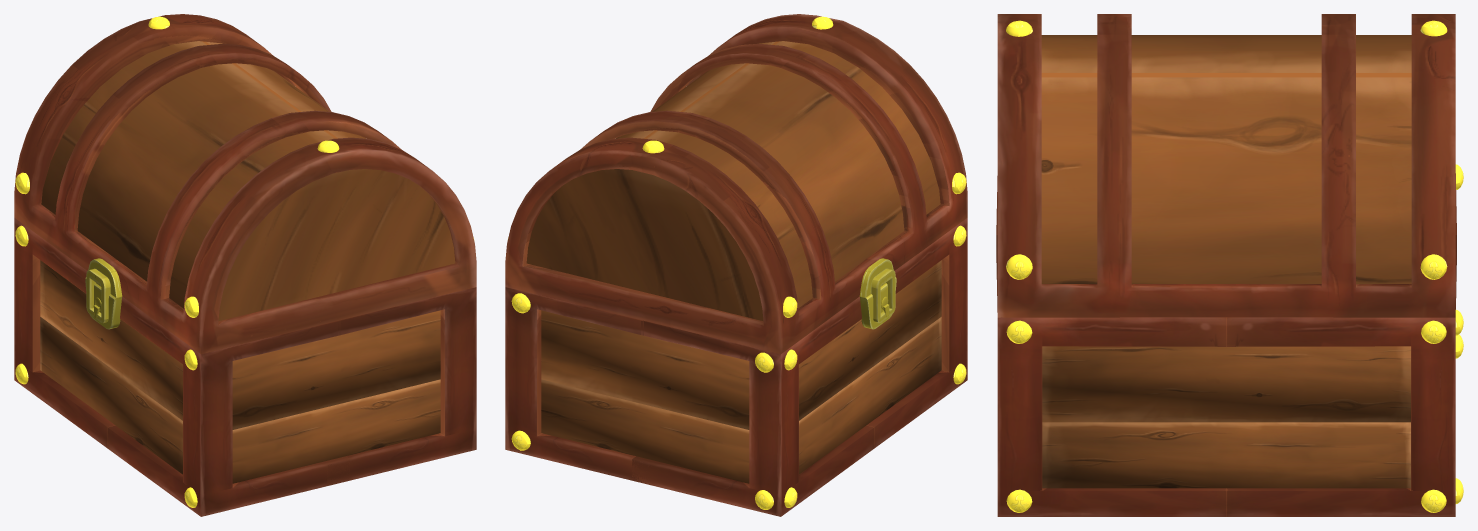
Rendered from COFRE.glb.
3 renders of one model, left to right at view 1: azimuth 30°, elevation 25°; view 2: azimuth 150°, elevation 25°; view 3: azimuth 270°, elevation 25°, orthographic. The views are drawn at different scales.
Visible parts, largest first — view 1: Cube.018, Cylinder, Cube.031, Cube.005, Cube.002, Cube.006, Cube.004, Cube.022, Cube.021, Cube.019; view 2: Cube.018, Cylinder, Cube.031, Cube.005, Cube.002, Cube.006, Cube.004, Cube.022, Cube.021, Cube.025, Cube.027, Cube.019; view 3: Cylinder, Cube.018, Cube.031, Cube.004, Cube.006, Cube.029, Cube.030.
Part boxes in pixels (left/top/right/bottom): Cube.018: left=14, top=14, right=476, bottom=354; Cylinder: left=41, top=41, right=455, bottom=321; Cube.031: left=14, top=218, right=476, bottom=516; Cube.005: left=232, top=310, right=440, bottom=429; Cube.002: left=232, top=379, right=440, bottom=483; Cube.006: left=40, top=317, right=182, bottom=474; Cube.004: left=40, top=260, right=182, bottom=420; Cube.022: left=86, top=268, right=110, bottom=323; Cube.021: left=85, top=277, right=121, bottom=329; Cube.019: left=88, top=258, right=122, bottom=297; Cube.018: left=505, top=14, right=967, bottom=354; Cylinder: left=526, top=41, right=940, bottom=321; Cube.031: left=505, top=218, right=967, bottom=516; Cube.005: left=541, top=310, right=749, bottom=429; Cube.002: left=541, top=379, right=749, bottom=483; Cube.006: left=799, top=317, right=941, bottom=474; Cube.004: left=799, top=260, right=941, bottom=420; Cube.022: left=871, top=268, right=895, bottom=323; Cube.021: left=860, top=277, right=896, bottom=329; Cube.025: left=511, top=293, right=773, bottom=372; Cube.027: left=511, top=430, right=773, bottom=509; Cube.019: left=859, top=258, right=893, bottom=297; Cylinder: left=1041, top=35, right=1411, bottom=283; Cube.018: left=997, top=14, right=1455, bottom=317; Cube.031: left=996, top=173, right=1456, bottom=516; Cube.004: left=1042, top=346, right=1410, bottom=422; Cube.006: left=1042, top=422, right=1410, bottom=488; Cube.029: left=1006, top=320, right=1446, bottom=343; Cube.030: left=1006, top=489, right=1446, bottom=512.
Size of the model in its own units: 0.5619 by 0.6138 by 0.6324.
9 materials, 8 textured.
